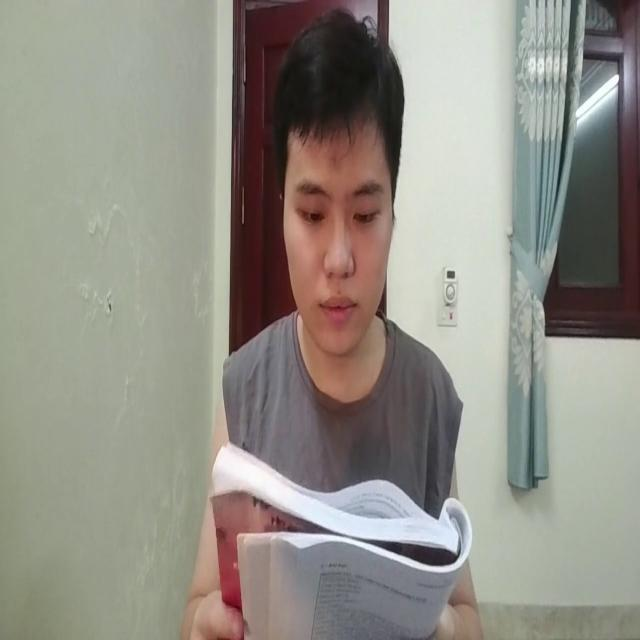book: (201, 428, 474, 640)
student: (188, 1, 480, 640)
